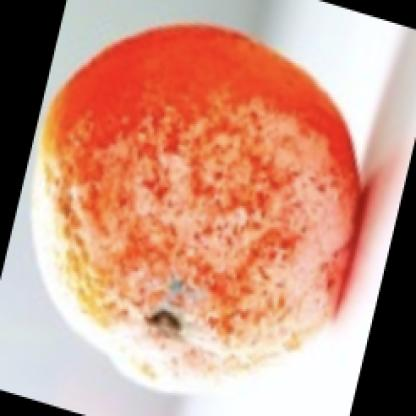rotten: (31, 22, 364, 383)
